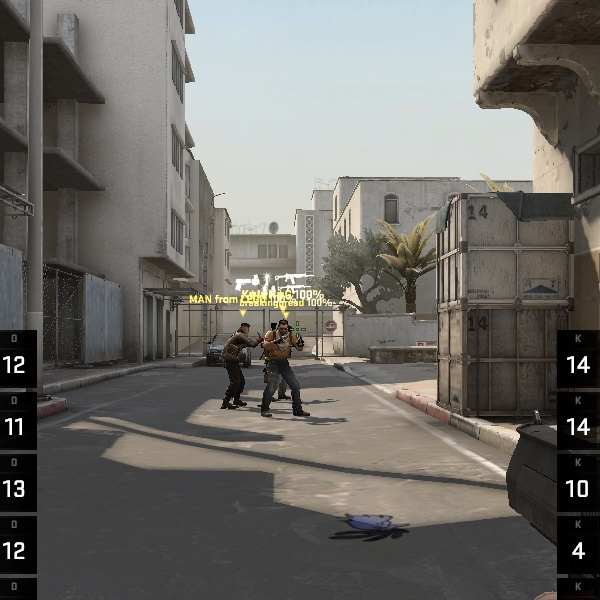t_body: (262, 320, 308, 417), (220, 321, 264, 411)
t_head: (279, 319, 288, 338), (240, 322, 249, 337)
